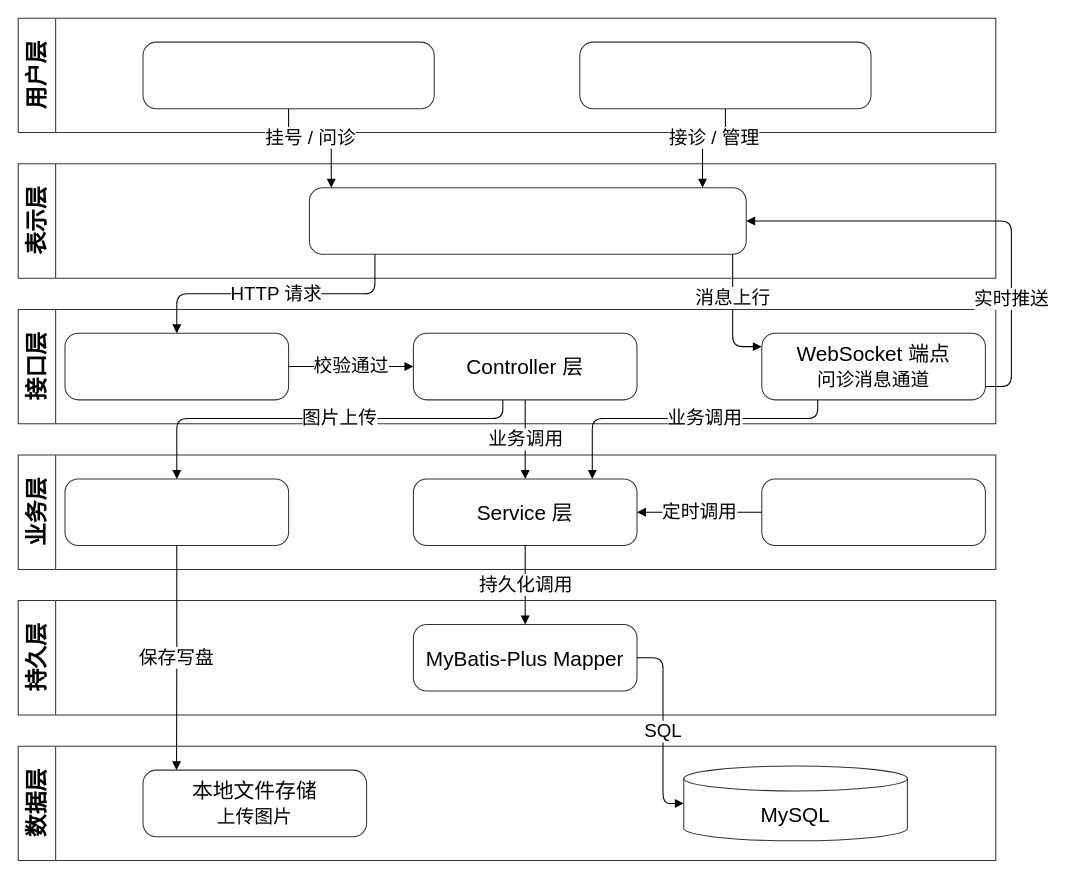
This 1067x879 diagram has some shape labels left out. Each missing label, with the centre of its shape:
Vue 前端应用: the point at 527,220
医生 / 管理员: the point at 725,75
定时任务: the point at 873,511
宠物主人: the point at 288,75
文件存储服务: the point at 176,511
认证鉴权拦截器: the point at 176,366
